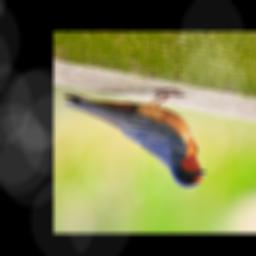Swallow: (62, 82, 210, 192)
